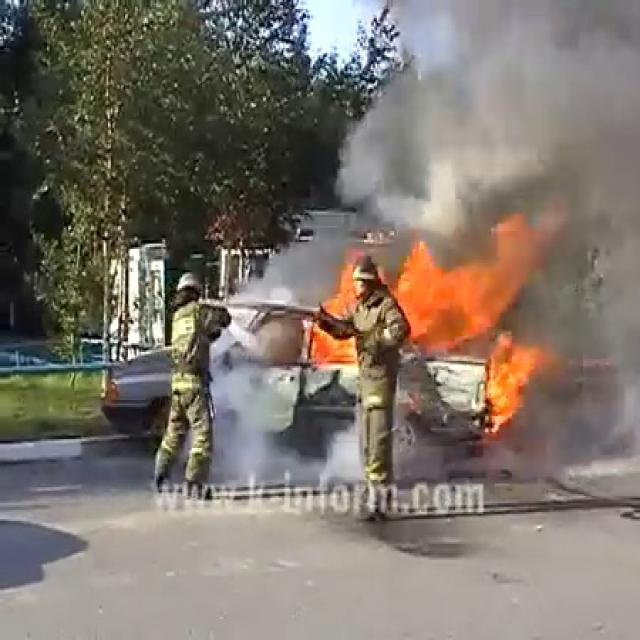Fire: (386, 218, 558, 424)
Smoke: (335, 0, 640, 279), (525, 2, 640, 472)
